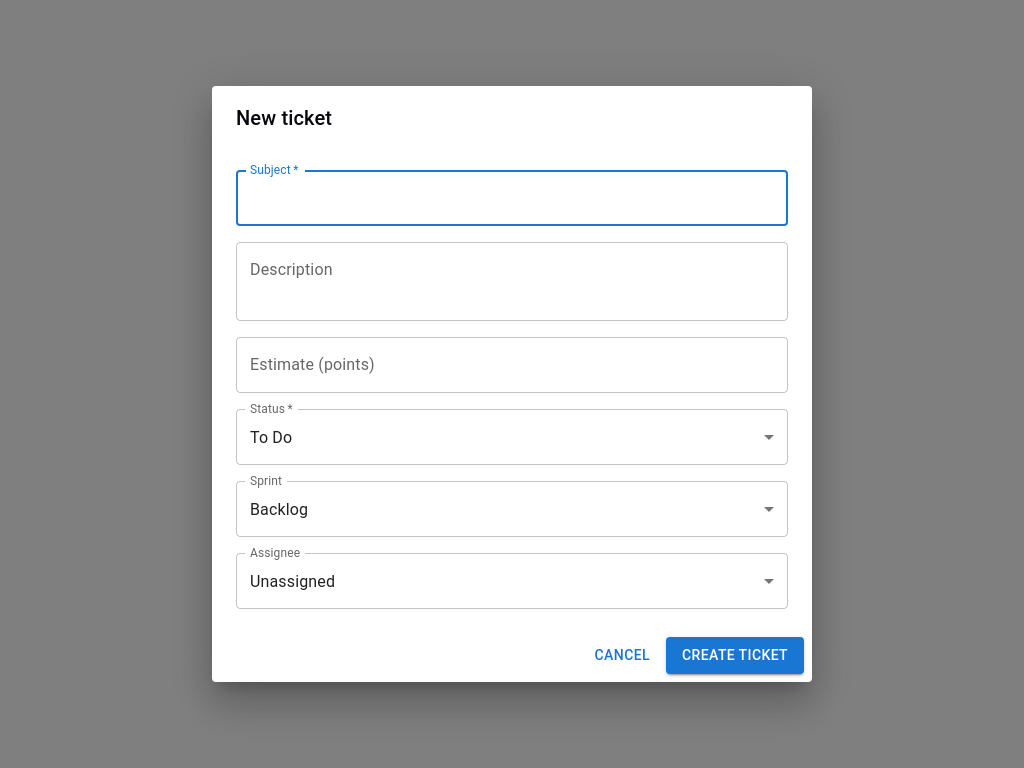
Test: TicketForm › shows validation error when subject is empty
The width and height of the screenshot is (1024, 768).
What coordinates should you click on to do the following:
click the button "Create ticket"
I would click on:
 (735, 656)
Its box is [666,637,804,674].
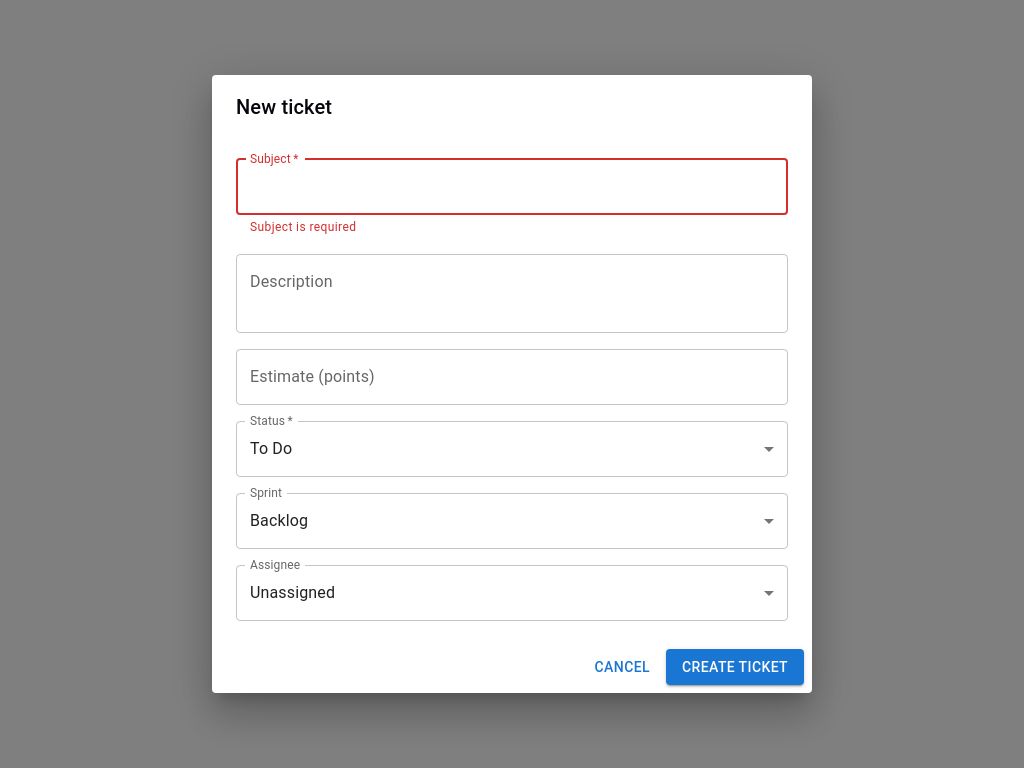
Result: the text "Subject is required" is shown at [250,220,356,234]
